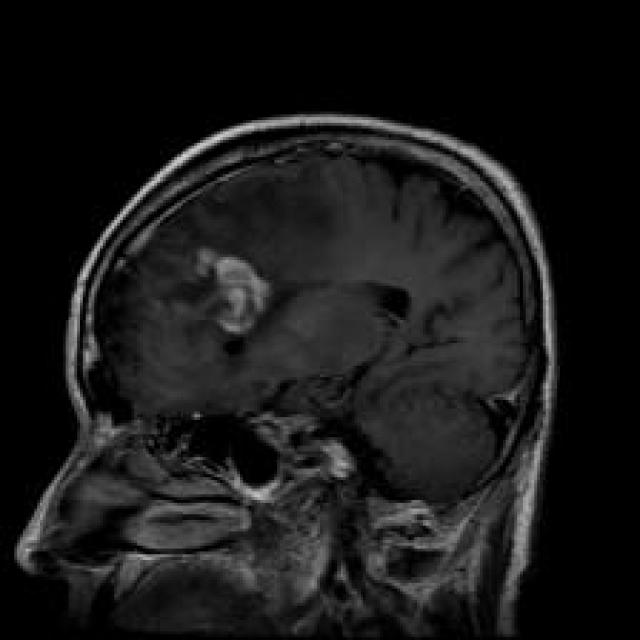glioma_tumor: (166, 228, 331, 372)
